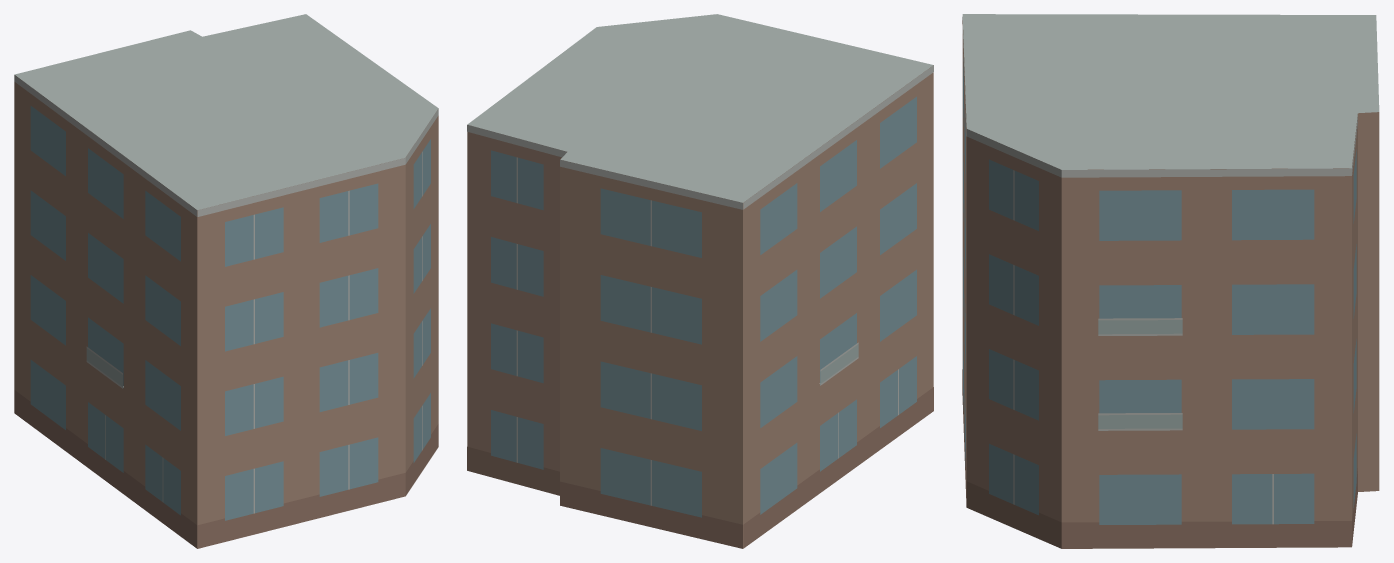
The model's file is survey-upis-32631364.glb.
3 views of the same model, side by side, from view 1: azimuth 30°, elevation 25°; view 2: azimuth 150°, elevation 25°; view 3: azimuth 270°, elevation 25° (orthographic). The views are drawn at different scales.
Parts seen in each view (by area): view 1: survey-upis-32631364.tmp; view 2: survey-upis-32631364.tmp; view 3: survey-upis-32631364.tmp.
Part boxes in pixels (x1,y1,x2,y2): survey-upis-32631364.tmp: [14, 14, 438, 548]; survey-upis-32631364.tmp: [467, 14, 933, 548]; survey-upis-32631364.tmp: [962, 14, 1379, 548].
Size of the model in its own units: 10.54 by 11.9 by 11.87.
